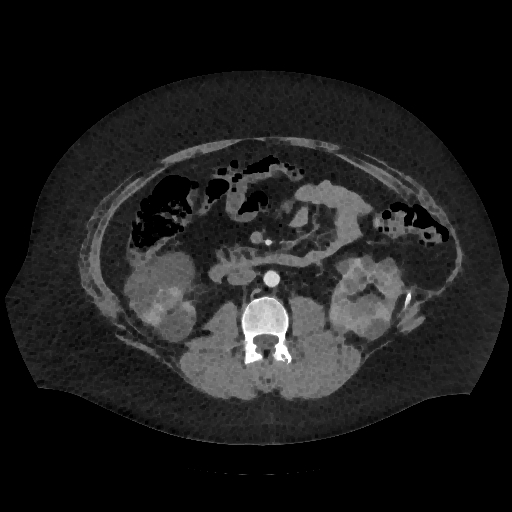Lesion: (138, 302, 167, 328)
